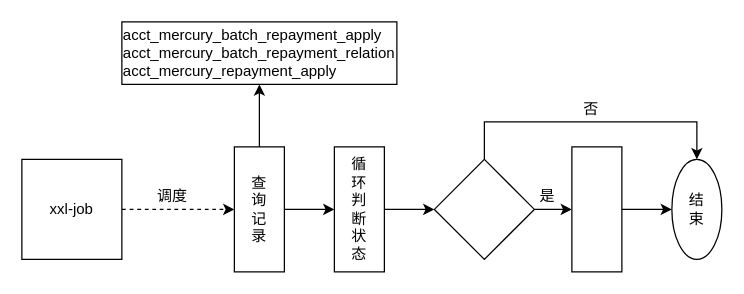
Image size: 744x294. Some labels were removed from this diagram. The box of each missing label's shape, as (x1, y1, x2, y2) in pixels:
全部终态: (433, 158, 534, 259)
发 送 回 调: (571, 146, 622, 272)
